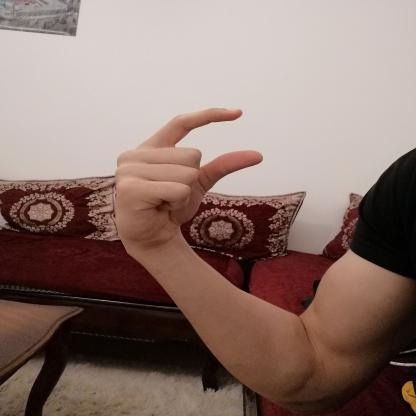DELL: (104, 100, 272, 259)
